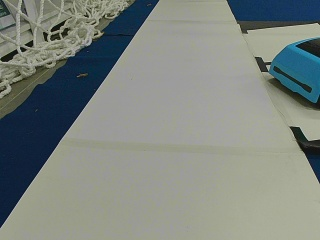car: (268, 36, 318, 103)
